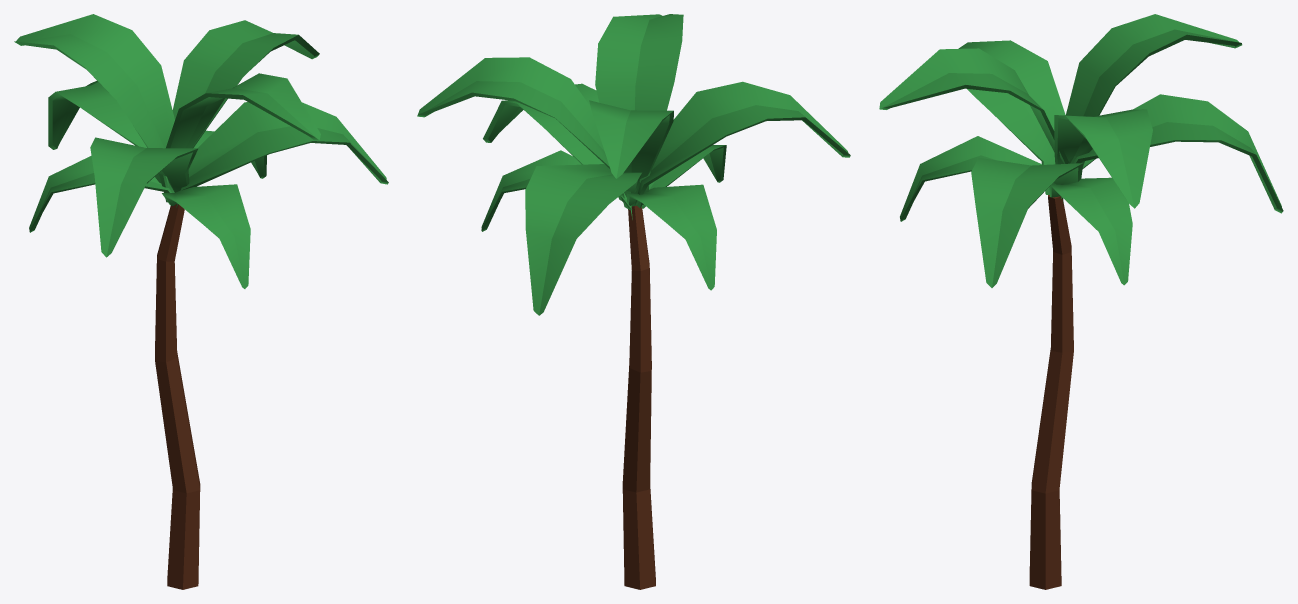
File: shu.FBX
The picture shows the model from 3 angles, left to right: view 1: azimuth 30°, elevation 25°; view 2: azimuth 150°, elevation 25°; view 3: azimuth 270°, elevation 25°; orthographic projection. The views are drawn at different scales.
Visible parts, largest first — view 1: PalmTree01, 对象018; view 2: PalmTree01, 对象018; view 3: PalmTree01, 对象018.
Part boxes in pixels (box(x1,y1,x2,y2)): PalmTree01: box(14, 14, 388, 288); 对象018: box(155, 204, 200, 589); PalmTree01: box(417, 14, 850, 315); 对象018: box(622, 205, 655, 589); PalmTree01: box(879, 14, 1283, 287); 对象018: box(1029, 195, 1073, 589).
Bounding box in the file's own units: 3.87 × 5.95 × 4.06.
